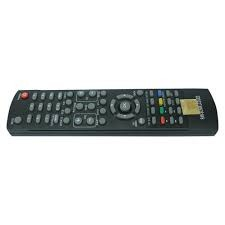remote control: (3, 83, 222, 149)
